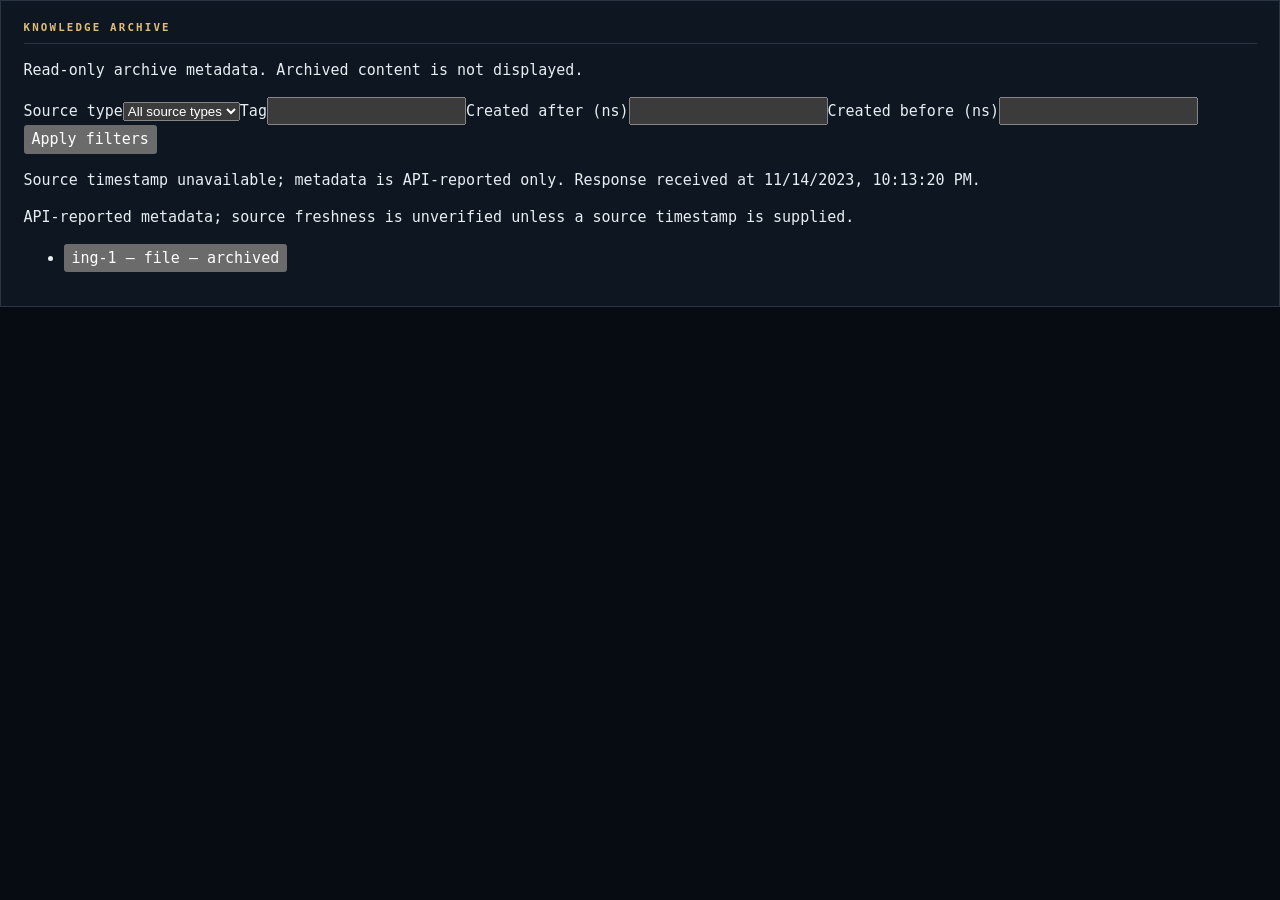
Test: KnowledgeArchiveView › loads allowlisted detail and run metadata without rendering record payloads
Click the button with aria-label "View ingestion ing-1".
click(175, 258)  # box left=64, top=244, right=287, bottom=272
(page scrolled)
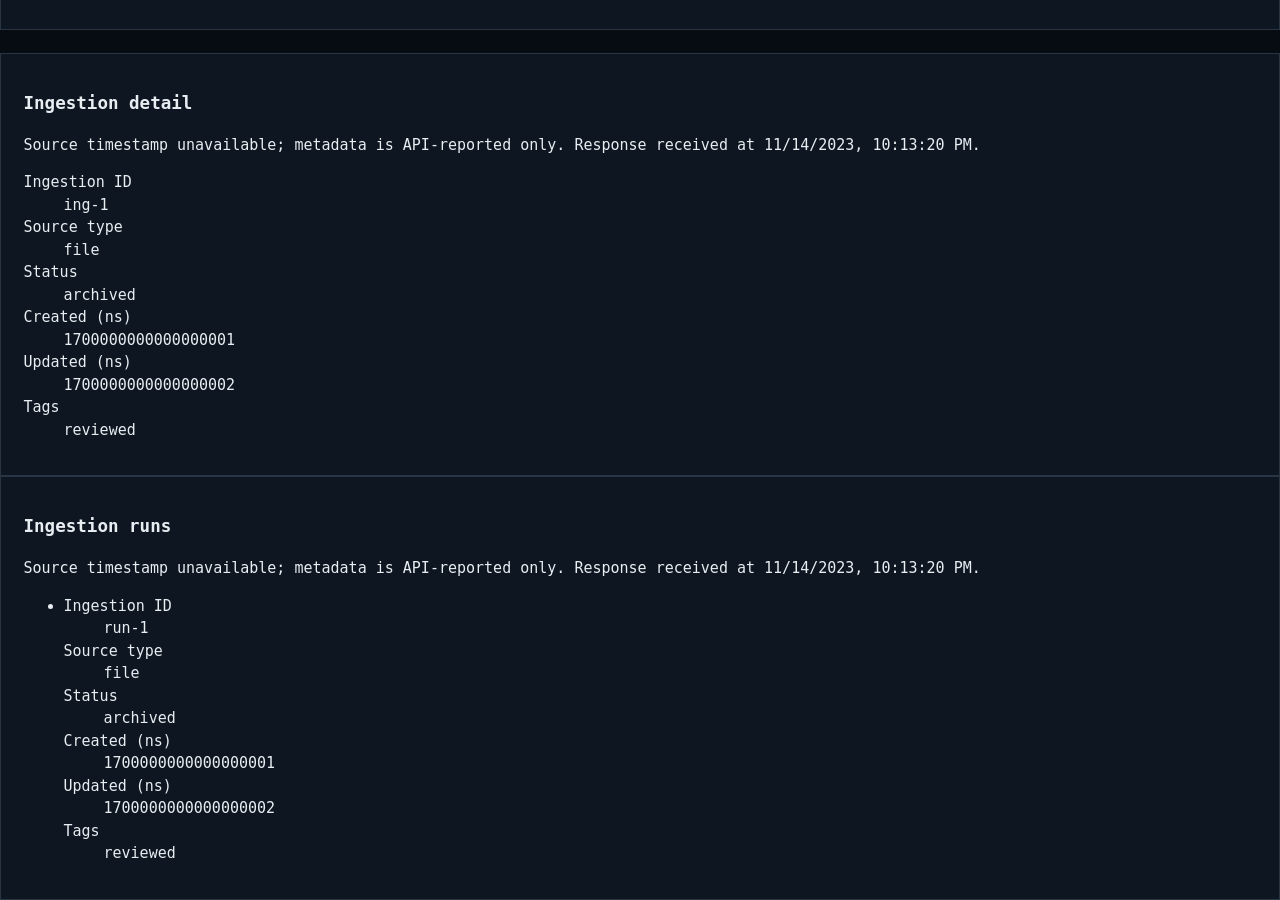
Expected: the heading "Ingestion detail" is shown, left=24, top=93, right=192, bottom=113
Expected: the text "run-1" is shown, left=104, top=619, right=149, bottom=637
